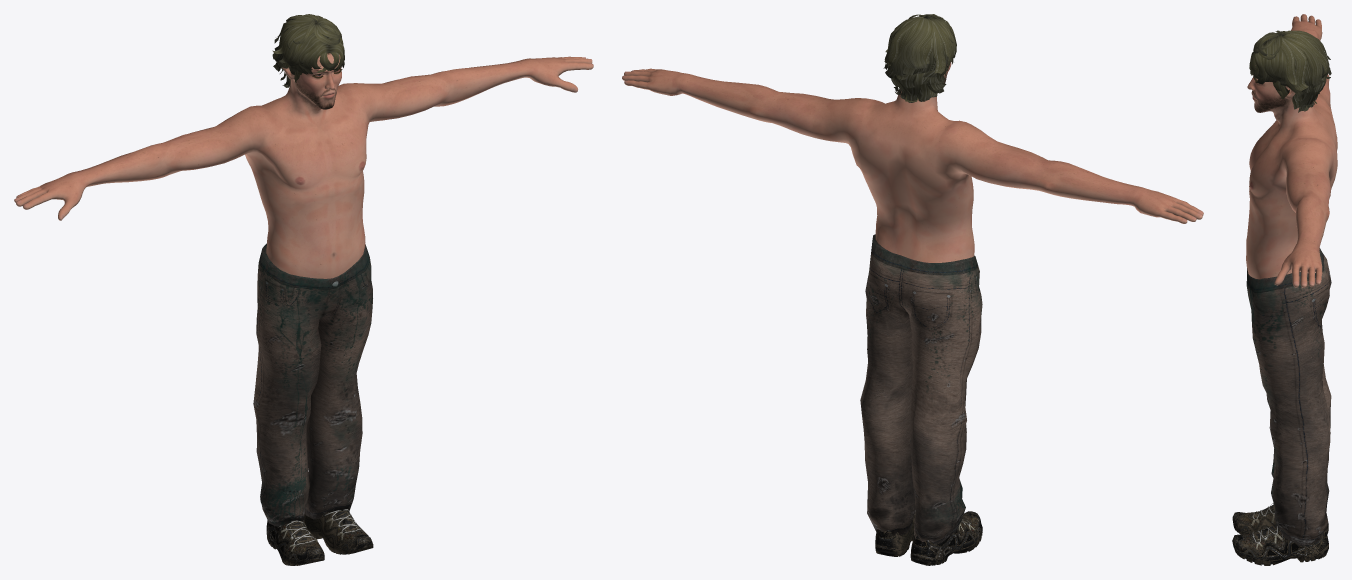
Rendered from Aleko.obj.
3 views of the same model, side by side, from view 1: azimuth 30°, elevation 25°; view 2: azimuth 150°, elevation 25°; view 3: azimuth 270°, elevation 25° (orthographic). The views are drawn at different scales.
Visible parts, largest first — view 1: Body, Bottoms, Shoes, Hair; view 2: Body, Bottoms, Hair, Shoes; view 3: Bottoms, Body, Hair, Shoes.
Part boxes in pixels (left/top/right/bottom): Body: left=14, top=53, right=593, bottom=278; Bottoms: left=253, top=243, right=372, bottom=526; Shoes: left=266, top=509, right=373, bottom=565; Hair: left=272, top=14, right=344, bottom=87; Body: left=622, top=62, right=1203, bottom=262; Bottoms: left=860, top=234, right=982, bottom=544; Hair: left=883, top=14, right=956, bottom=102; Shoes: left=875, top=510, right=982, bottom=565; Bottoms: left=1246, top=248, right=1331, bottom=545; Body: left=1246, top=14, right=1337, bottom=287; Hair: left=1249, top=30, right=1331, bottom=112; Shoes: left=1232, top=503, right=1328, bottom=565.
Size of the model in its own units: 213 by 187 by 34.66.
4 materials, 4 textured.
